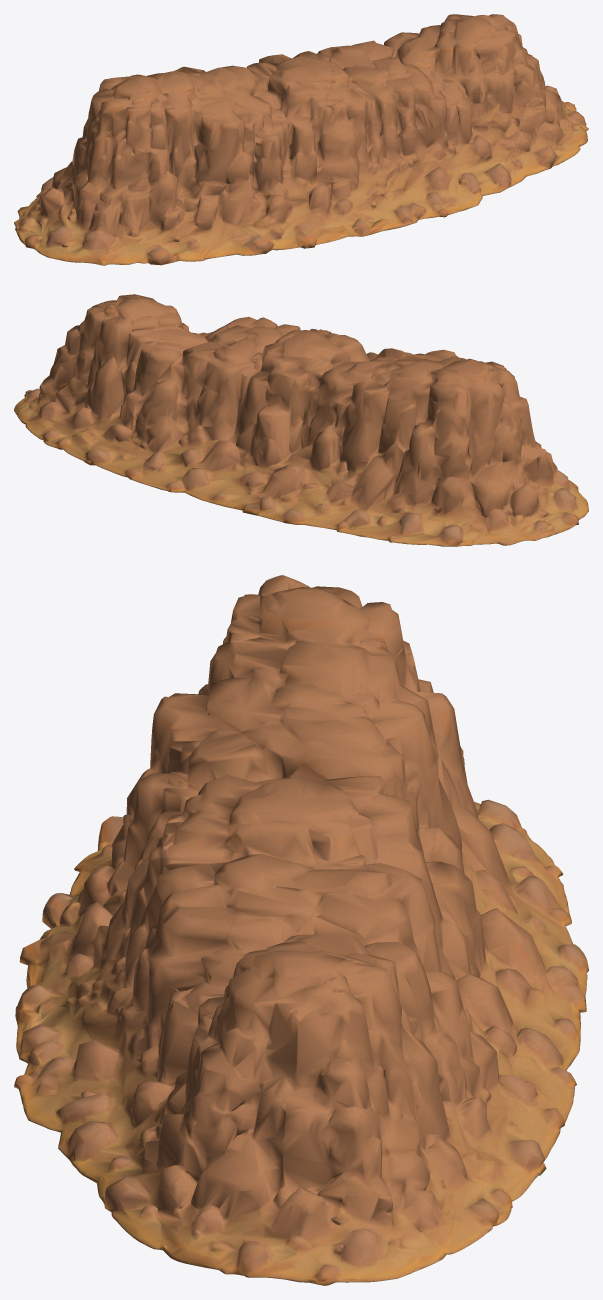
Rendered from formacion_rocosa_del_desierto.glb.
3 views of the same model, one above another, from view 1: azimuth 30°, elevation 25°; view 2: azimuth 150°, elevation 25°; view 3: azimuth 270°, elevation 25° (orthographic). The views are drawn at different scales.
Parts seen in each view (by area): view 1: formacion_rocosa_del_desierto; view 2: formacion_rocosa_del_desierto; view 3: formacion_rocosa_del_desierto.
Part boxes in pixels (x1,y1,x2,y2): formacion_rocosa_del_desierto: [14, 14, 588, 265]; formacion_rocosa_del_desierto: [14, 294, 588, 546]; formacion_rocosa_del_desierto: [14, 575, 588, 1285].
Size of what is drawn, in the model's own units: 25.73 by 6 by 11.8.
Materials: 1 (1 with a texture image).
